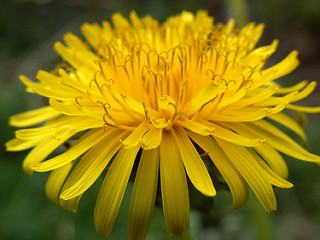dandelion: (4, 2, 320, 234)
